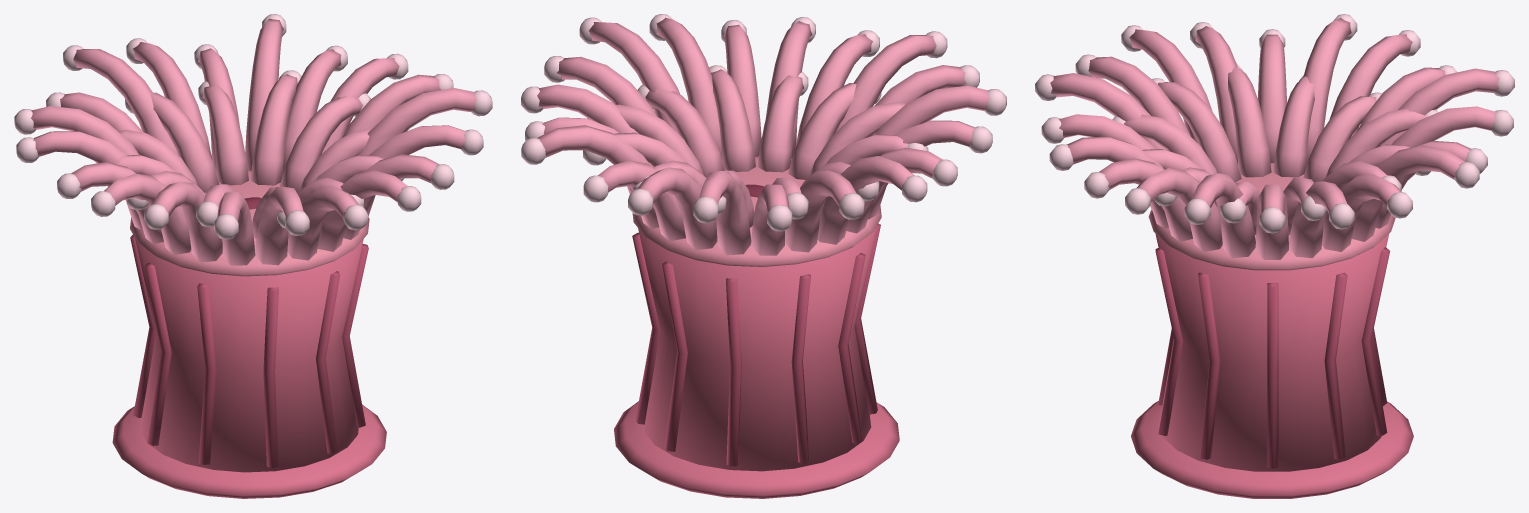
The model's file is sea-sea-anemone.glb.
The picture shows the model from 3 angles, left to right: view 1: azimuth 30°, elevation 25°; view 2: azimuth 150°, elevation 25°; view 3: azimuth 270°, elevation 25°; orthographic projection. The views are drawn at different scales.
Visible parts, largest first — view 1: anemone; view 2: anemone; view 3: anemone.
Boxes of the visible parts, x1,y1,x2,y2 form: anemone: [14, 14, 492, 498]; anemone: [521, 14, 1006, 498]; anemone: [1035, 14, 1514, 498].
Bounding box in the file's own units: 0.2959 × 0.2464 × 0.2974.
